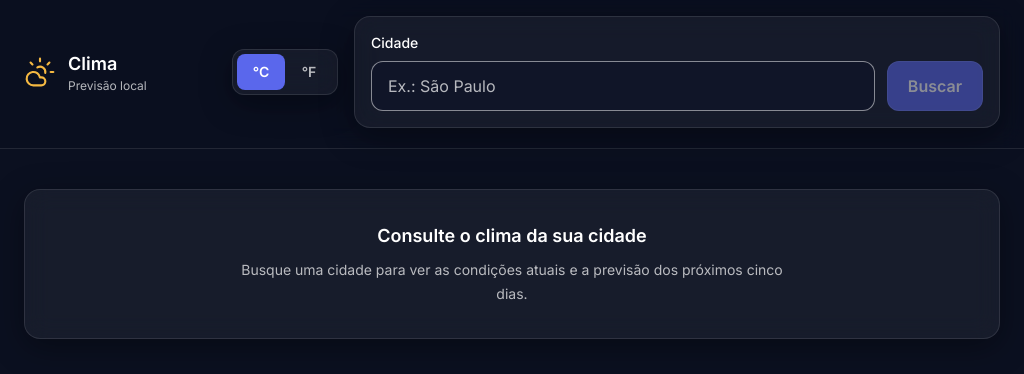
Test: App › mostra empty quando a busca retorna lista vazia
The width and height of the screenshot is (1024, 374).
Type "Atlantis" into the search field labelled "Cidade" at (623, 86), box [371,61,875,111]
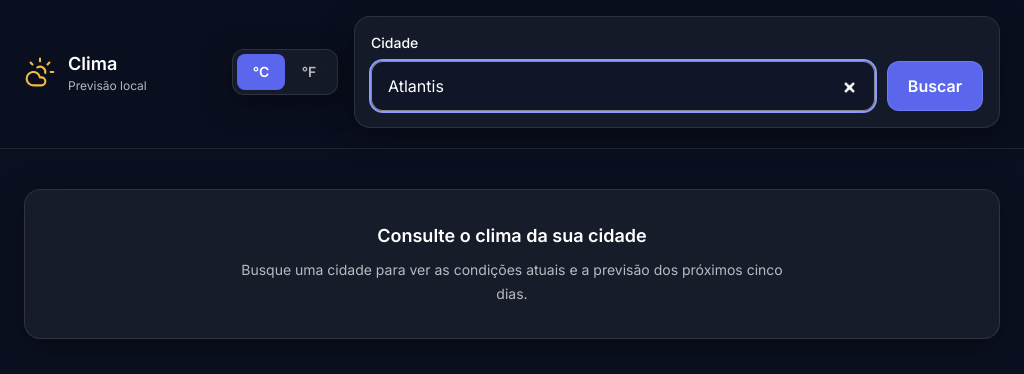
Click the button "Buscar" at (935, 86), box [887,61,983,111]
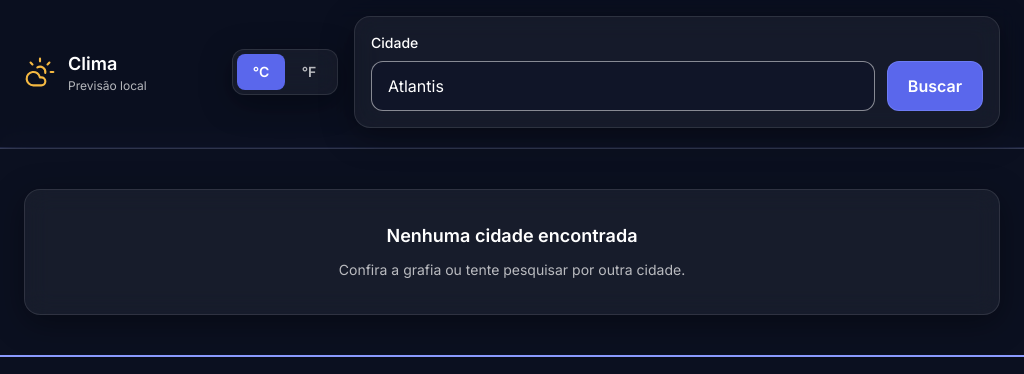
Check: the heading "Nenhuma cidade encontrada" is shown, box [386,225,638,246]
